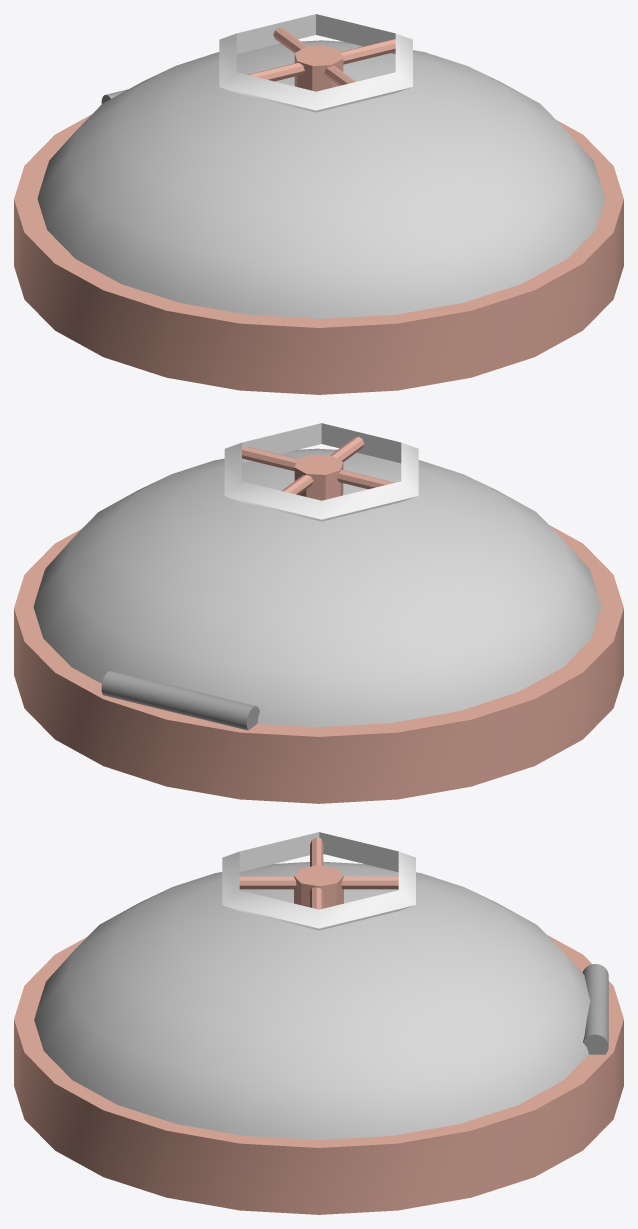
File: Luke.fbx
The picture shows the model from 3 angles, top to bottom: view 1: azimuth 30°, elevation 25°; view 2: azimuth 150°, elevation 25°; view 3: azimuth 270°, elevation 25°; orthographic projection.
Visible parts, largest first — view 1: Cylinder_5; view 2: Cylinder_5; view 3: Cylinder_5.
Boxes of the visible parts, left/top/right/bottom form: Cylinder_5: left=14, top=14, right=623, bottom=394; Cylinder_5: left=14, top=423, right=623, bottom=803; Cylinder_5: left=14, top=832, right=623, bottom=1214.
Bounding box in the file's own units: 120 × 46.51 × 120.
